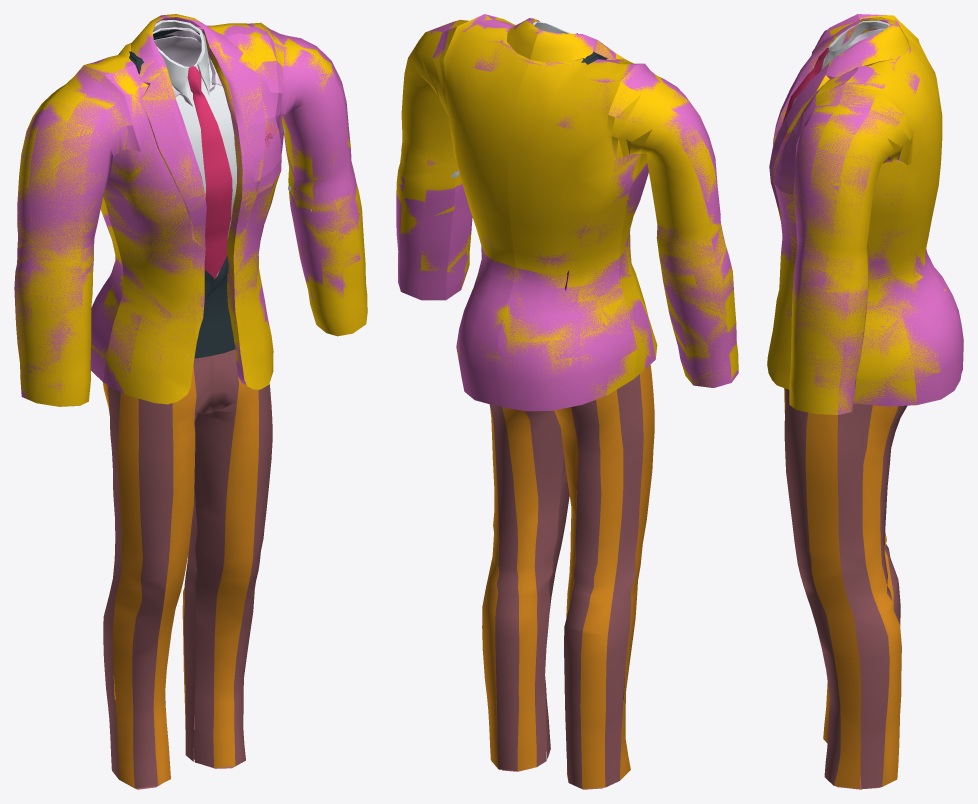
The model's file is Shirt_Pants.fbx.
3 views of the same model, side by side, from view 1: azimuth 30°, elevation 25°; view 2: azimuth 150°, elevation 25°; view 3: azimuth 270°, elevation 25° (orthographic).
Visible parts, largest first — view 1: Male_clr_agb_Jacket, Male_clr_agb_Jacket_1, Male_Classic_Pants, Male_Classic_Shirt, Male_Colorful2_Shirt001_5; view 2: Male_clr_agb_Jacket_1, Male_Classic_Pants, Male_clr_agb_Jacket; view 3: Male_clr_agb_Jacket_1, Male_Classic_Pants, Male_clr_agb_Jacket, Male_Classic_Shirt.
Part boxes in pixels (x1,y1,x2,y2): Male_clr_agb_Jacket: (14,15,360,399); Male_clr_agb_Jacket_1: (14,14,367,406); Male_Classic_Pants: (102,349,272,789); Male_Classic_Shirt: (56,20,311,358); Male_Colorful2_Shirt001_5: (152,27,285,133); Male_clr_agb_Jacket_1: (396,16,738,399); Male_Classic_Pants: (482,364,654,789); Male_clr_agb_Jacket: (396,14,738,411); Male_clr_agb_Jacket_1: (767,15,945,414); Male_Classic_Pants: (784,388,907,789); Male_clr_agb_Jacket: (769,14,963,414); Male_Classic_Shirt: (782,20,889,124).
Size of the model in its own units: 27.15 by 57.48 by 13.87.
